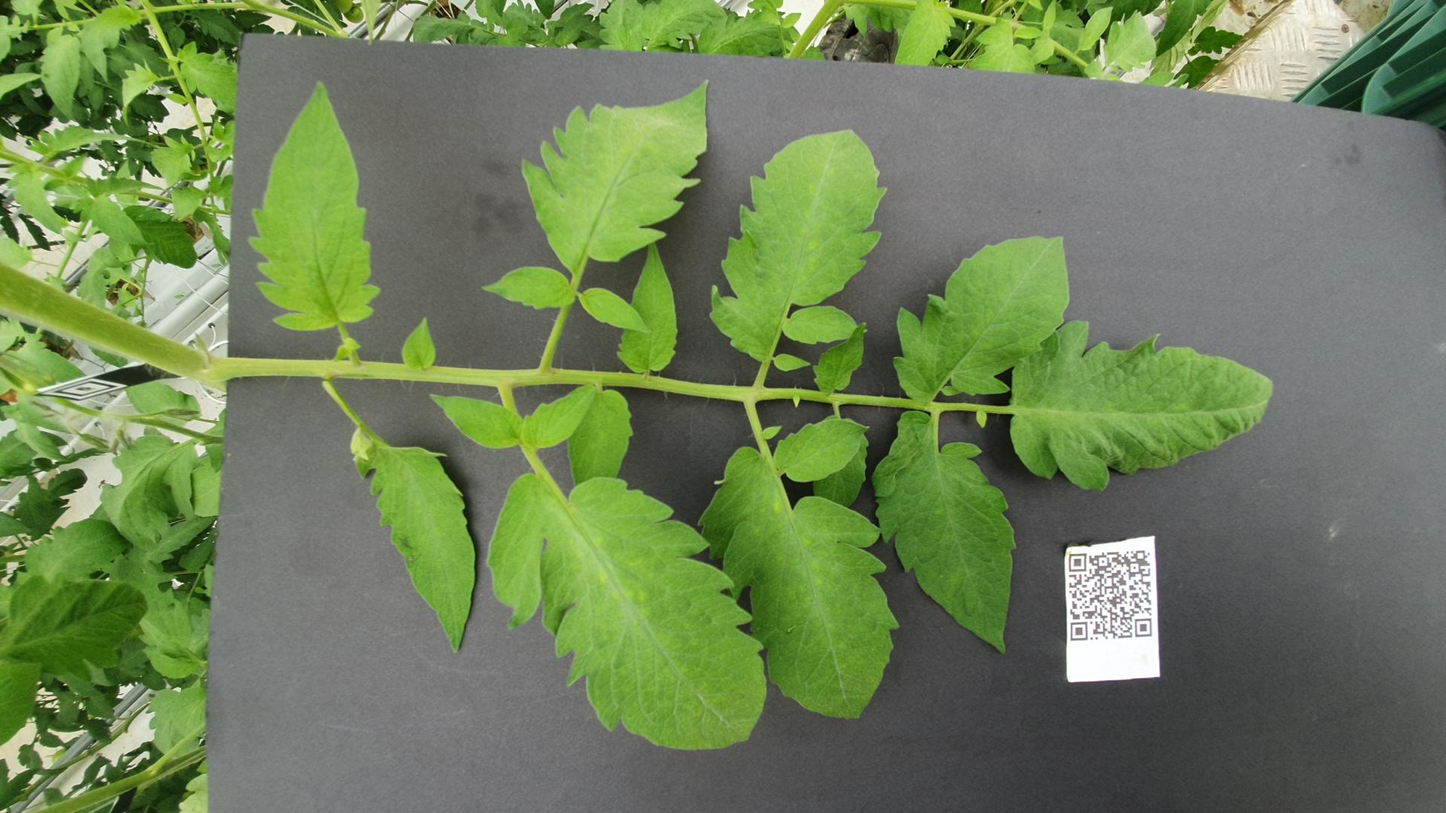Healthy: (111, 273, 597, 432), (169, 393, 654, 503), (570, 567, 878, 717), (801, 398, 1218, 498), (277, 489, 719, 573), (959, 292, 1305, 399), (858, 139, 1305, 215), (730, 501, 1039, 601), (279, 195, 657, 268), (229, 0, 426, 84), (464, 56, 672, 112), (785, 346, 1016, 381), (408, 12, 524, 74), (574, 317, 752, 356), (588, 434, 705, 490), (645, 239, 749, 296), (644, 291, 752, 335), (968, 69, 1081, 111), (893, 269, 976, 324), (1006, 41, 1103, 88), (1358, 359, 1446, 408), (1251, 99, 1374, 134), (1228, 21, 1400, 45), (1328, 503, 1444, 538), (1348, 392, 1425, 442), (744, 457, 871, 487), (848, 324, 938, 366), (1344, 649, 1446, 681), (1355, 605, 1436, 626)
